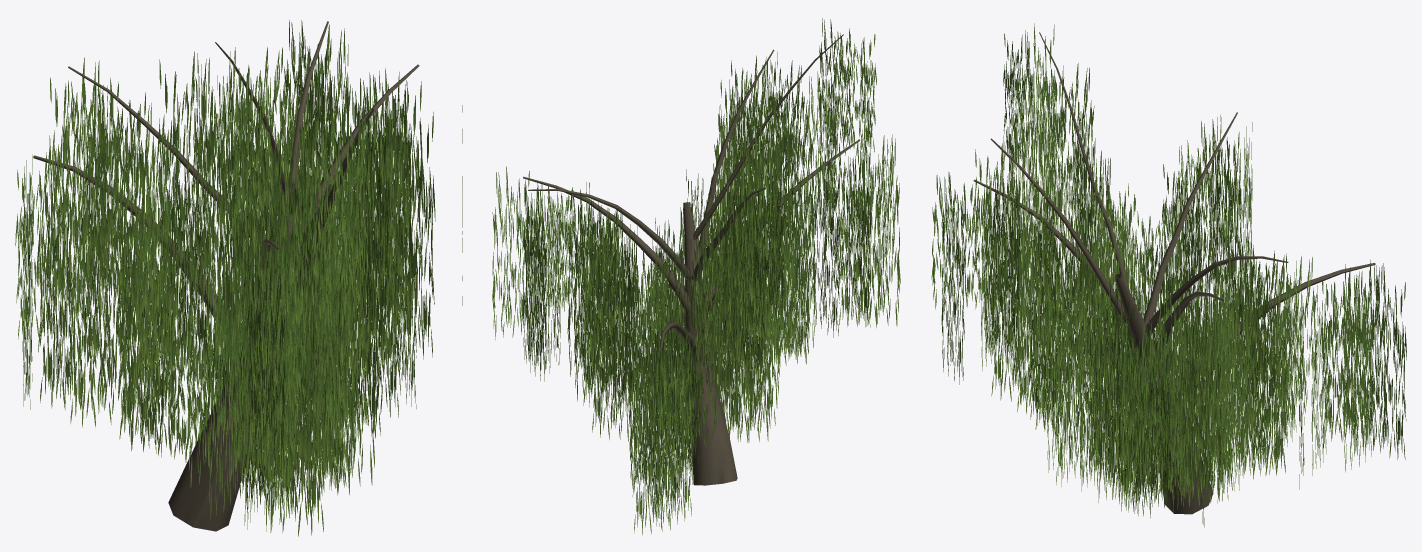
File: willow_1.glb
3 views of the same model, side by side, from view 1: azimuth 30°, elevation 25°; view 2: azimuth 150°, elevation 25°; view 3: azimuth 270°, elevation 25° (orthographic). The views are drawn at different scales.
Visible parts, largest first — view 1: willow_1Leaves, willow_1Wood; view 2: willow_1Leaves, willow_1Wood; view 3: willow_1Leaves, willow_1Wood.
Boxes of the visible parts, x1,y1,x2,y2 form: willow_1Leaves: (15,20,462,536); willow_1Wood: (33,21,419,531); willow_1Leaves: (492,18,900,535); willow_1Wood: (523,34,860,485); willow_1Leaves: (931,23,1406,527); willow_1Wood: (973,32,1375,514).
Size of what is drawn, in the model's own units: 3.71 by 4.89 by 4.77.
2 materials, 2 textured.
